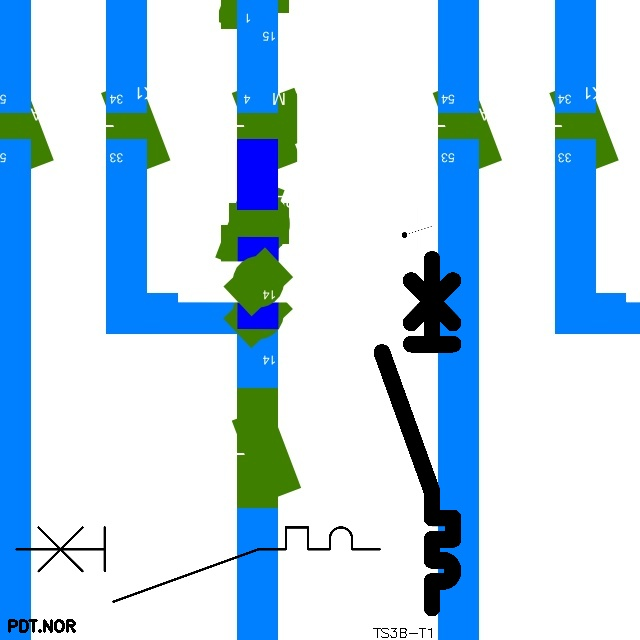interruptor_termomagnetico: (7, 518, 389, 611), (373, 250, 462, 616)
